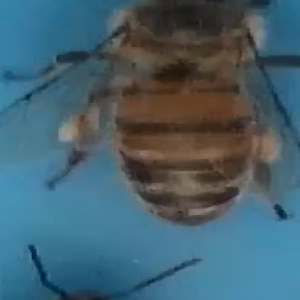bee: (33, 1, 297, 233)
